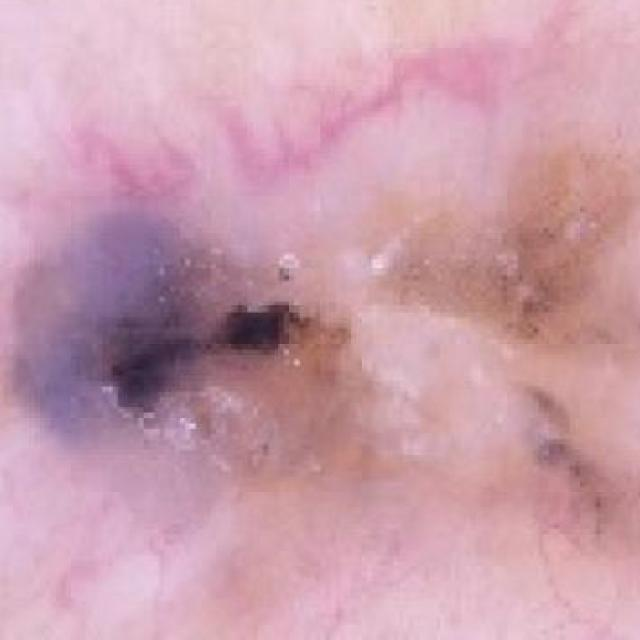AKIEC: (3, 0, 640, 566)
